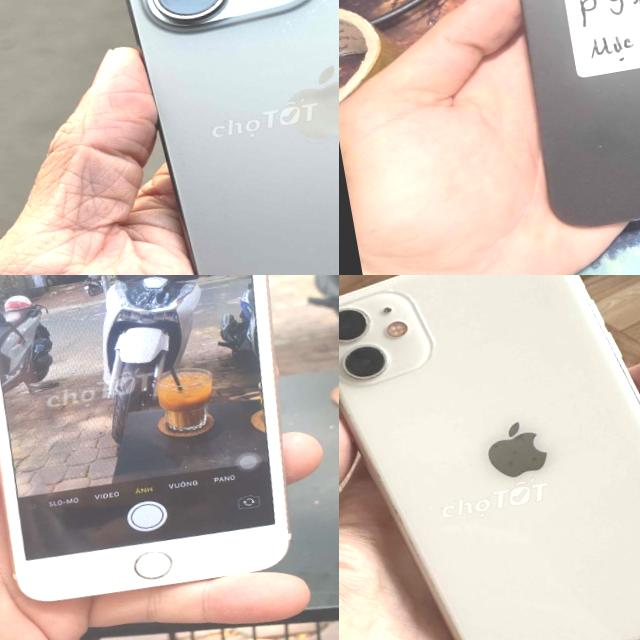gen_11: (339, 275, 640, 640)
gen_15: (81, 0, 339, 275), (470, 0, 640, 259)
gen_6: (0, 275, 339, 621)
